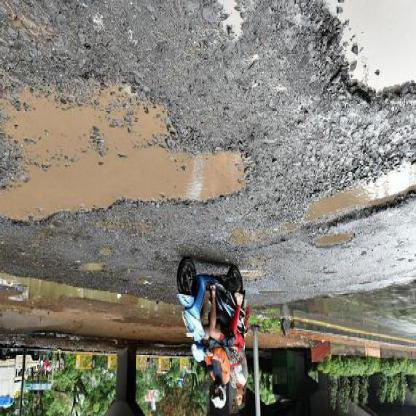pothole: (1, 81, 254, 230), (314, 3, 416, 110), (300, 162, 416, 231), (311, 232, 355, 254)
